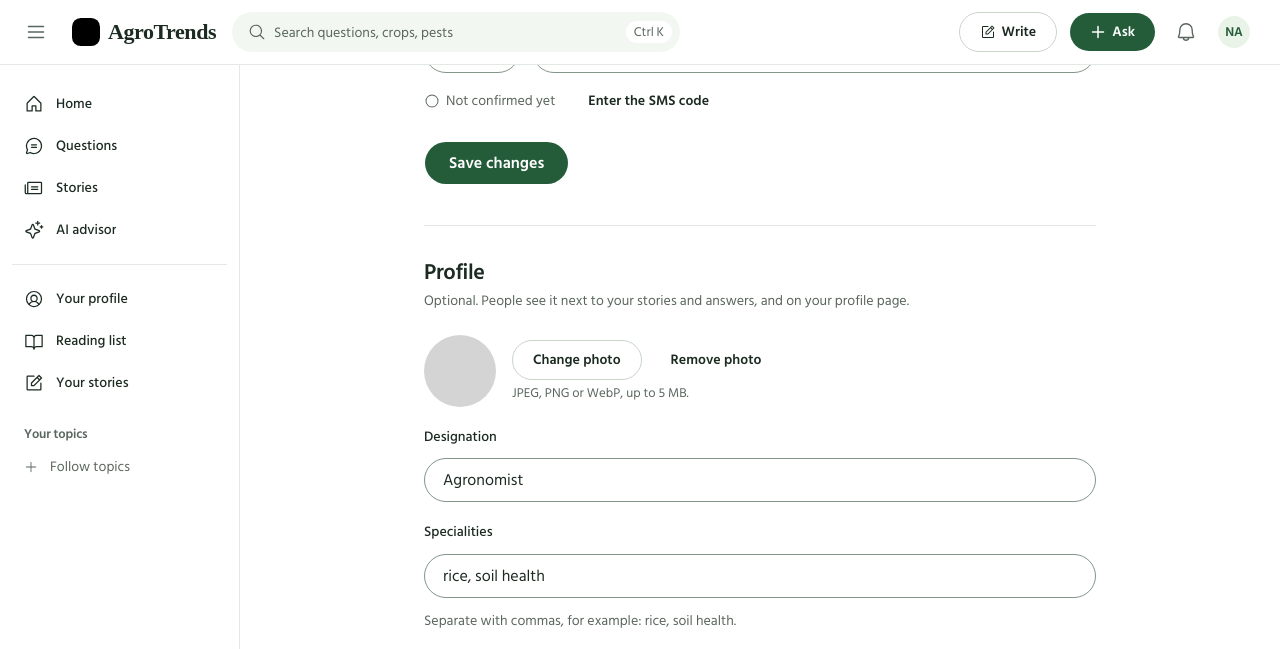
Scenario: removing the photo saves without one
The image size is (1280, 649).
(page scrolled)
Check: the field labelled "Designation" is shown, box left=424, top=458, right=1096, bottom=502
Click the button "Remove photo" at (716, 360), box left=650, top=340, right=782, bottom=380
(page scrolled)
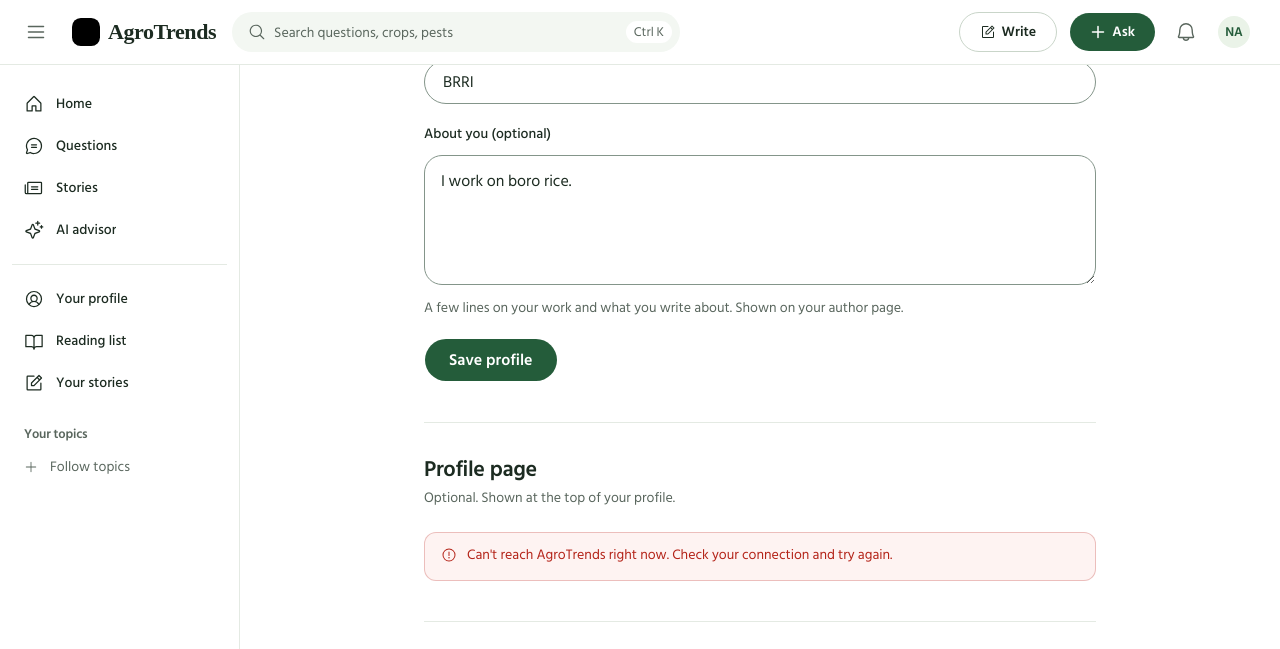
Click the button "Save profile" at (491, 360), box left=424, top=338, right=558, bottom=382
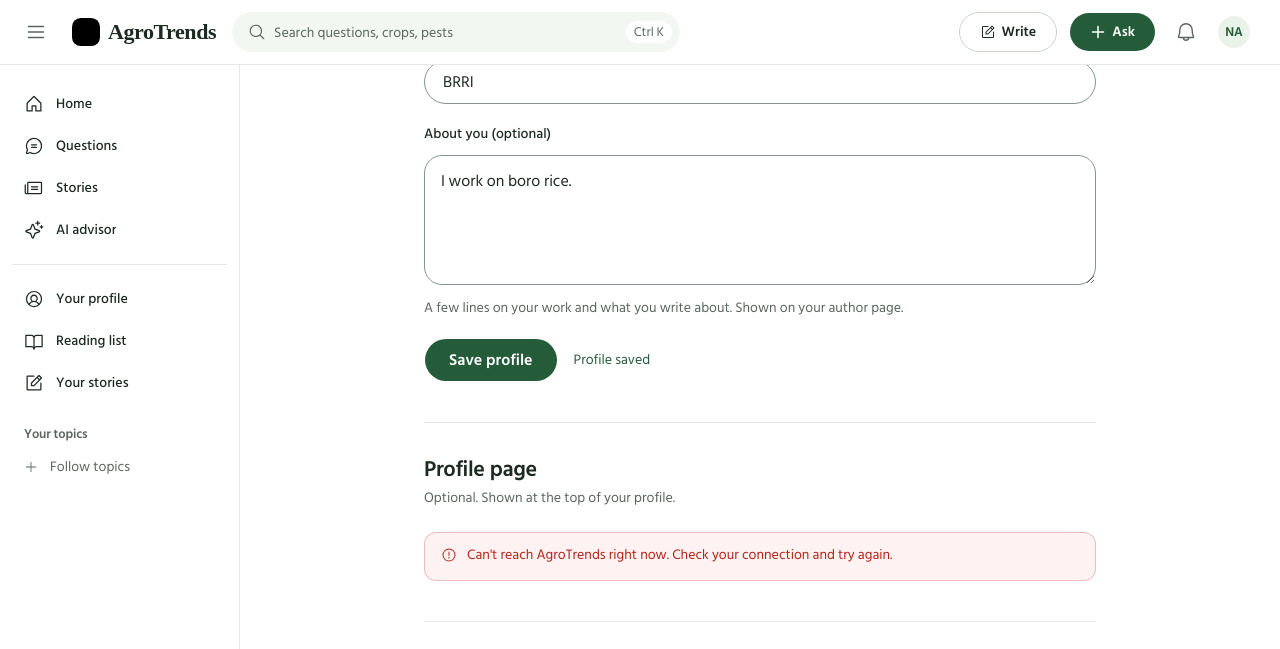
Check: the text "Profile saved" is shown, box left=574, top=350, right=650, bottom=370
